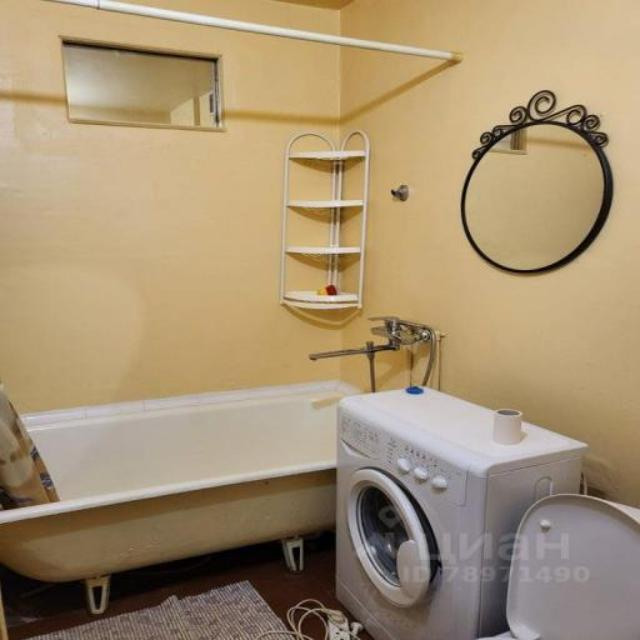Washing-Machine: (336, 384, 578, 640)
